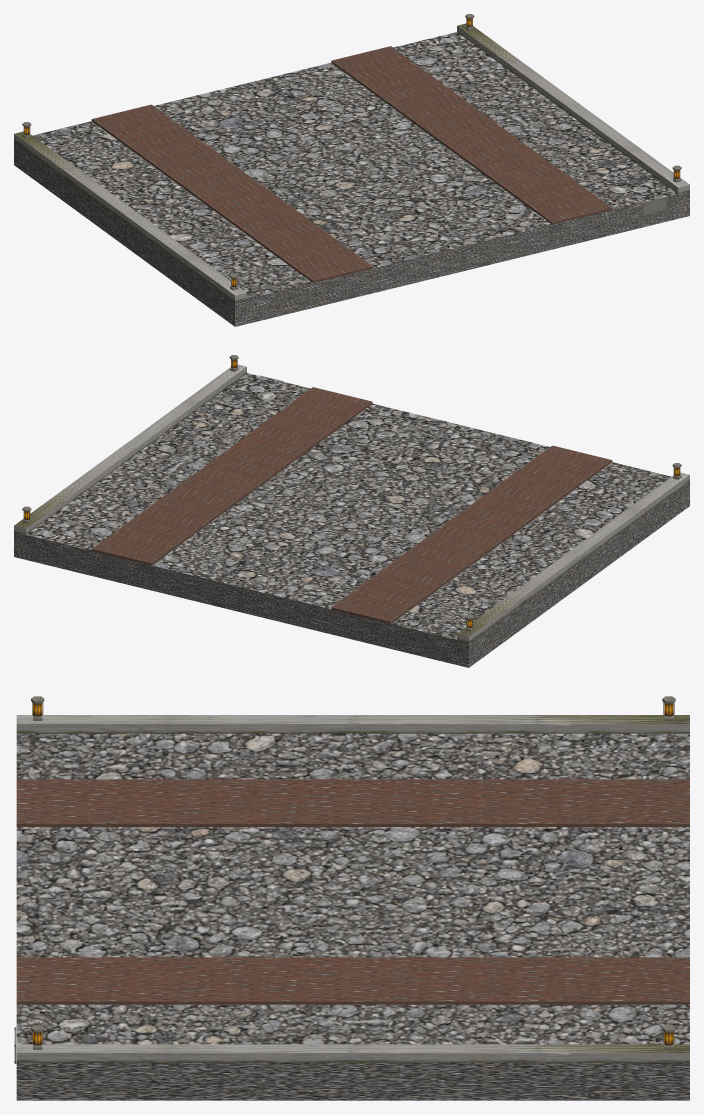
The model's file is crawlerway-gravel-bed.glb.
The picture shows the model from 3 angles, top to bottom: view 1: azimuth 30°, elevation 25°; view 2: azimuth 150°, elevation 25°; view 3: azimuth 270°, elevation 25°; orthographic projection. The views are drawn at different scales.
Parts seen in each view (by area): view 1: crawlerway-gravel-bed_concrete, crawlerway-gravel-bed_metal; view 2: crawlerway-gravel-bed_concrete, crawlerway-gravel-bed_metal; view 3: crawlerway-gravel-bed_concrete, crawlerway-gravel-bed_metal.
Part boxes in pixels (box(x1,y1,x2,y2)): crawlerway-gravel-bed_concrete: box(14, 23, 689, 326); crawlerway-gravel-bed_metal: box(22, 14, 681, 290); crawlerway-gravel-bed_concrete: box(14, 364, 689, 667); crawlerway-gravel-bed_metal: box(22, 355, 681, 631); crawlerway-gravel-bed_concrete: box(16, 715, 689, 1100); crawlerway-gravel-bed_metal: box(14, 696, 689, 1063).
Size of the model in its own units: 38 by 3.6 by 32.13.
3 materials, 3 textured.
